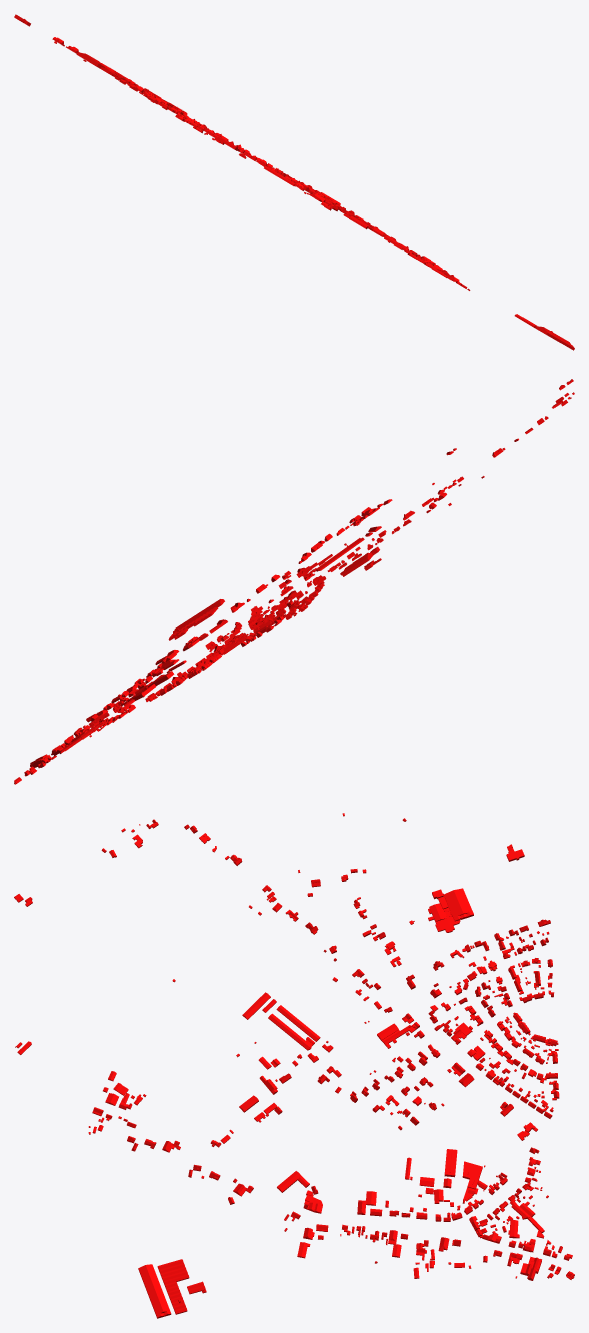
3 renders of one model, top to bottom at view 1: azimuth 30°, elevation 25°; view 2: azimuth 150°, elevation 25°; view 3: azimuth 270°, elevation 25°, orthographic. The views are drawn at different scales.
Visible parts, largest first — view 1: mesh; view 2: mesh; view 3: mesh.
Boxes of the visible parts, box(x1,y1,x2,y2) form: mesh: box(14, 14, 574, 350); mesh: box(14, 379, 574, 784); mesh: box(14, 813, 574, 1318).
Size of the model in its own units: 853 by 655 by 1055.
